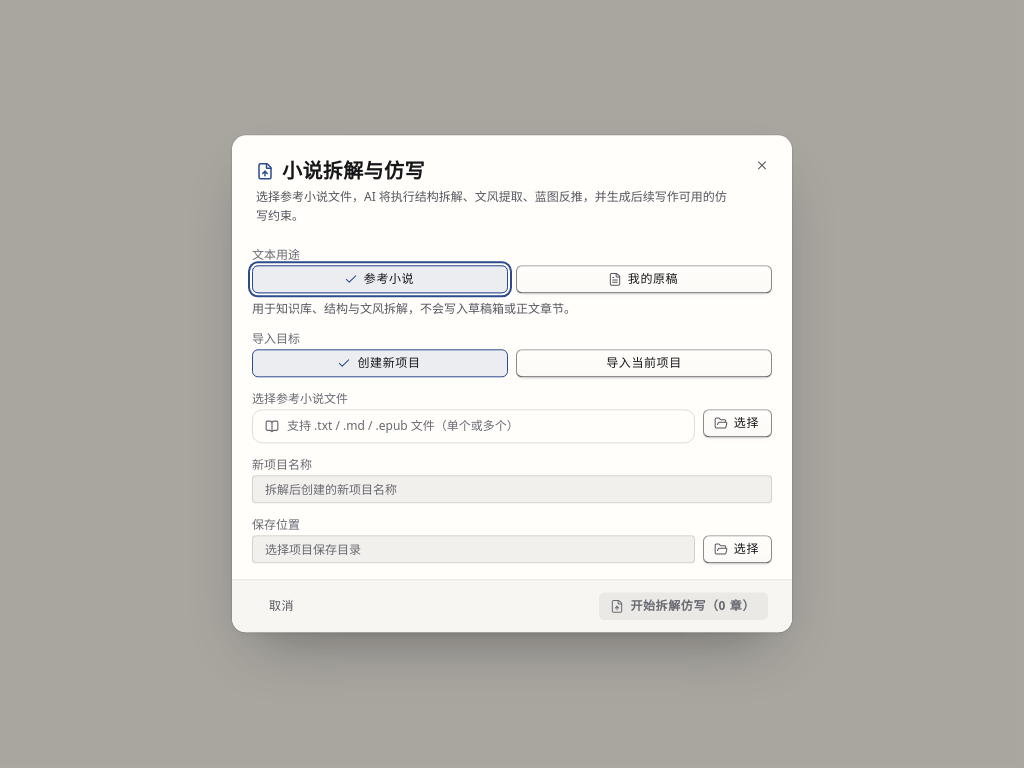
Test case: current-project reference import › lists only unfinished source names and resumes with the run-frozen locale after a UI locale switch
Later steps or results of the test are not shown.
Click the button with test id "import-target-current": (644, 364) x1=516 y1=350 x2=772 y2=378
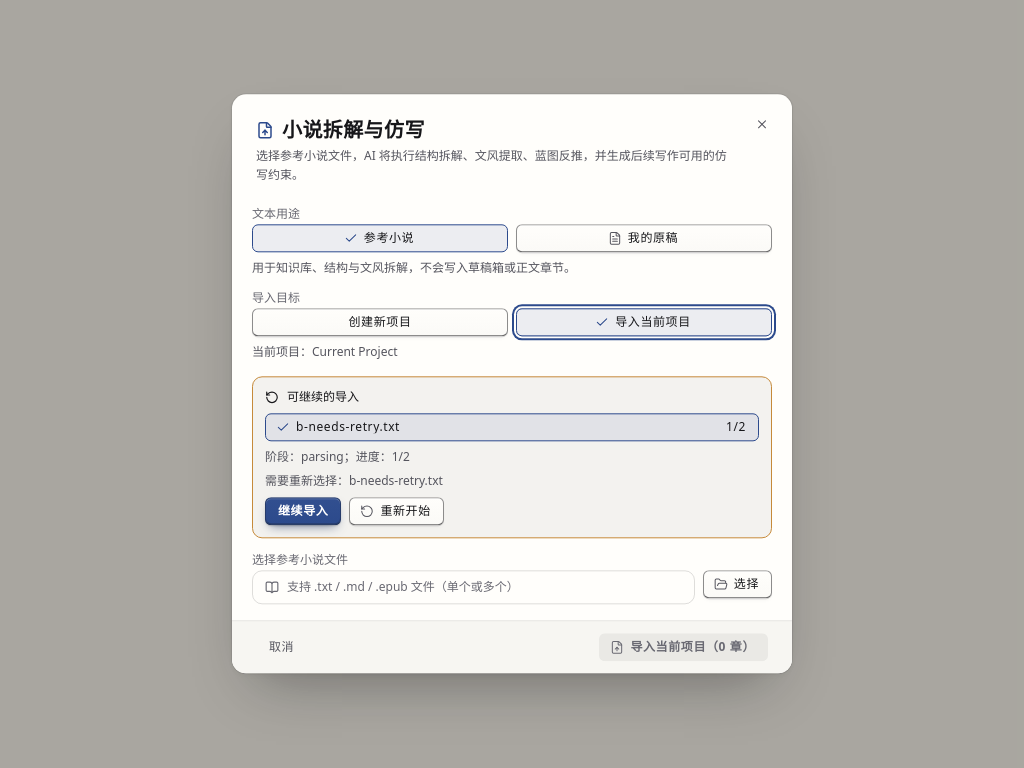
Expected: the text with test id "import-unfinished-sources" reads "需要重新选择：b-needs-retry.txt", x1=265 y1=473 x2=443 y2=490
